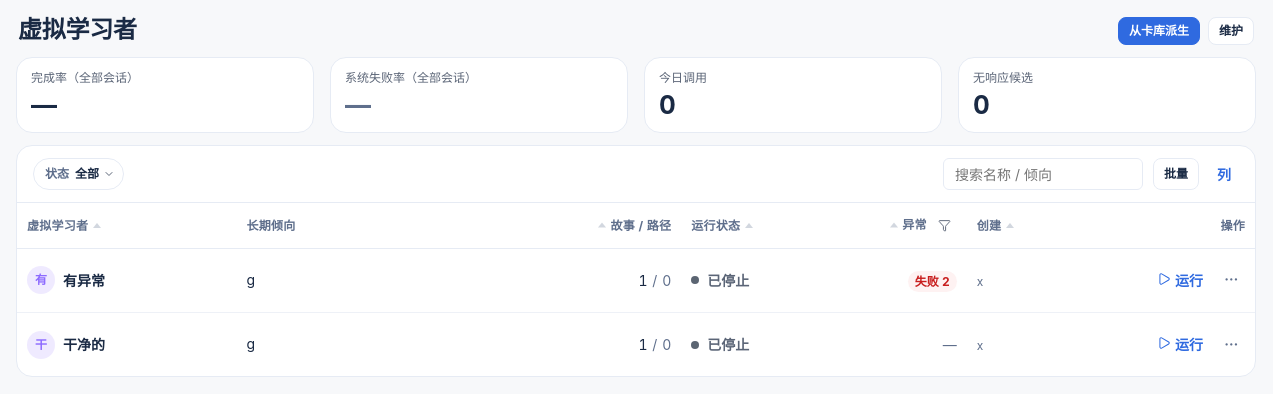
Test case: VirtualLearners · 筛选 ↔ URL › 异常列「只看有异常」：本地开关，不占用 pill，筛掉没有失败/无响应的行
Click the button named "只看有失败或无响应运行的学习者". click: (945, 226)
box: [933,214,957,238]
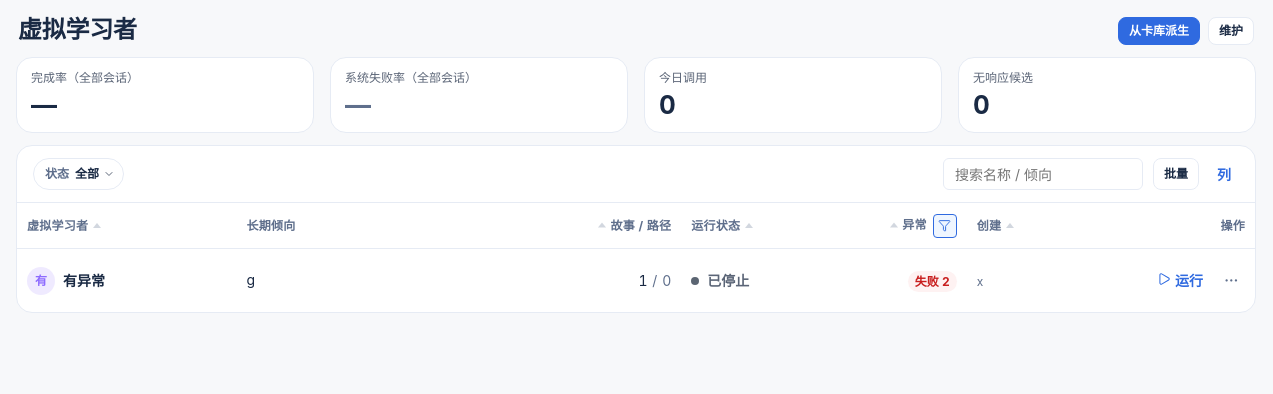
Expected: the text "有异常" is shown, [63,269,105,292]
Now the text "干净的" is gone
